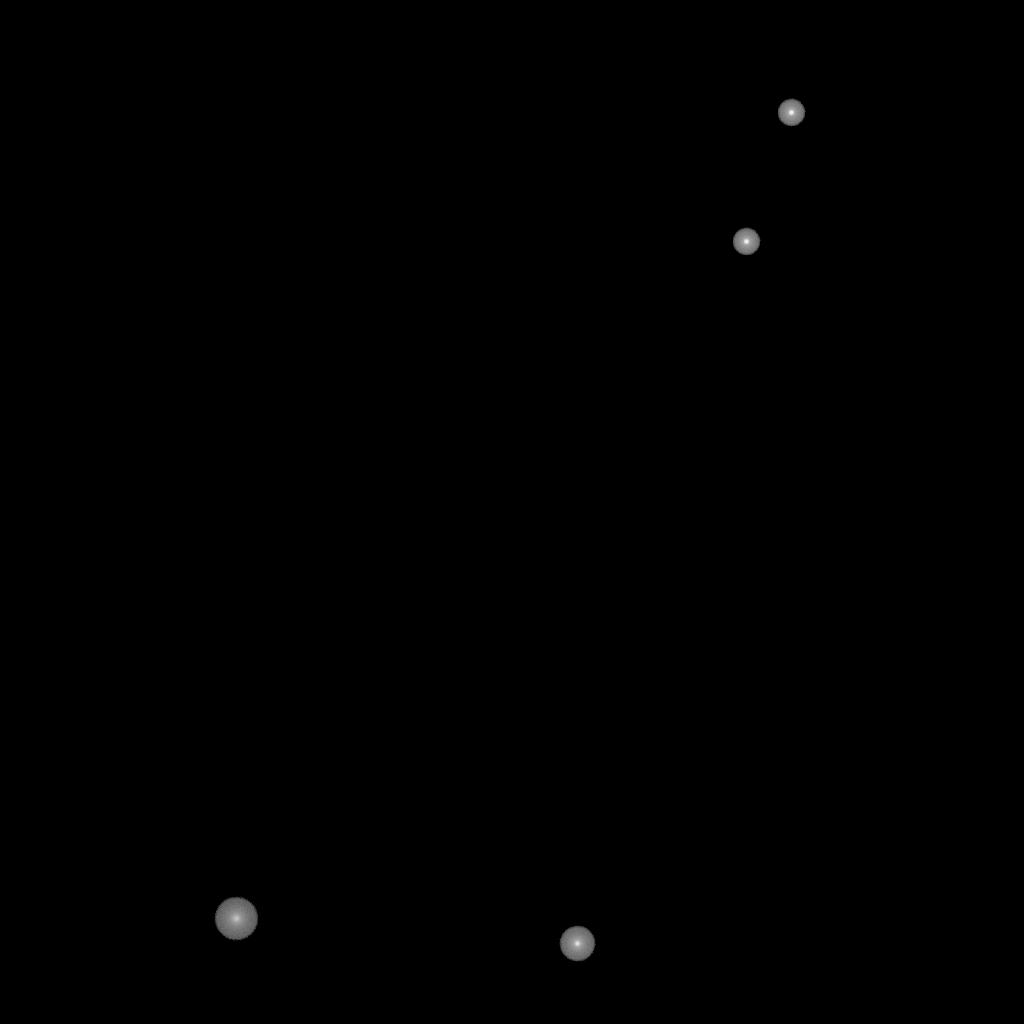depth:-10: (732, 228, 760, 256), (777, 99, 805, 127)
depth:0: (559, 926, 595, 962)
depth:10: (214, 897, 258, 941)
